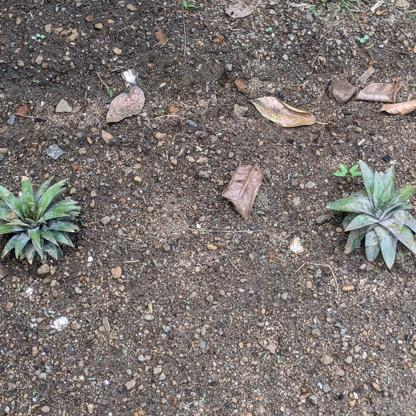pineapple: (325, 156, 416, 271), (1, 172, 84, 269)
